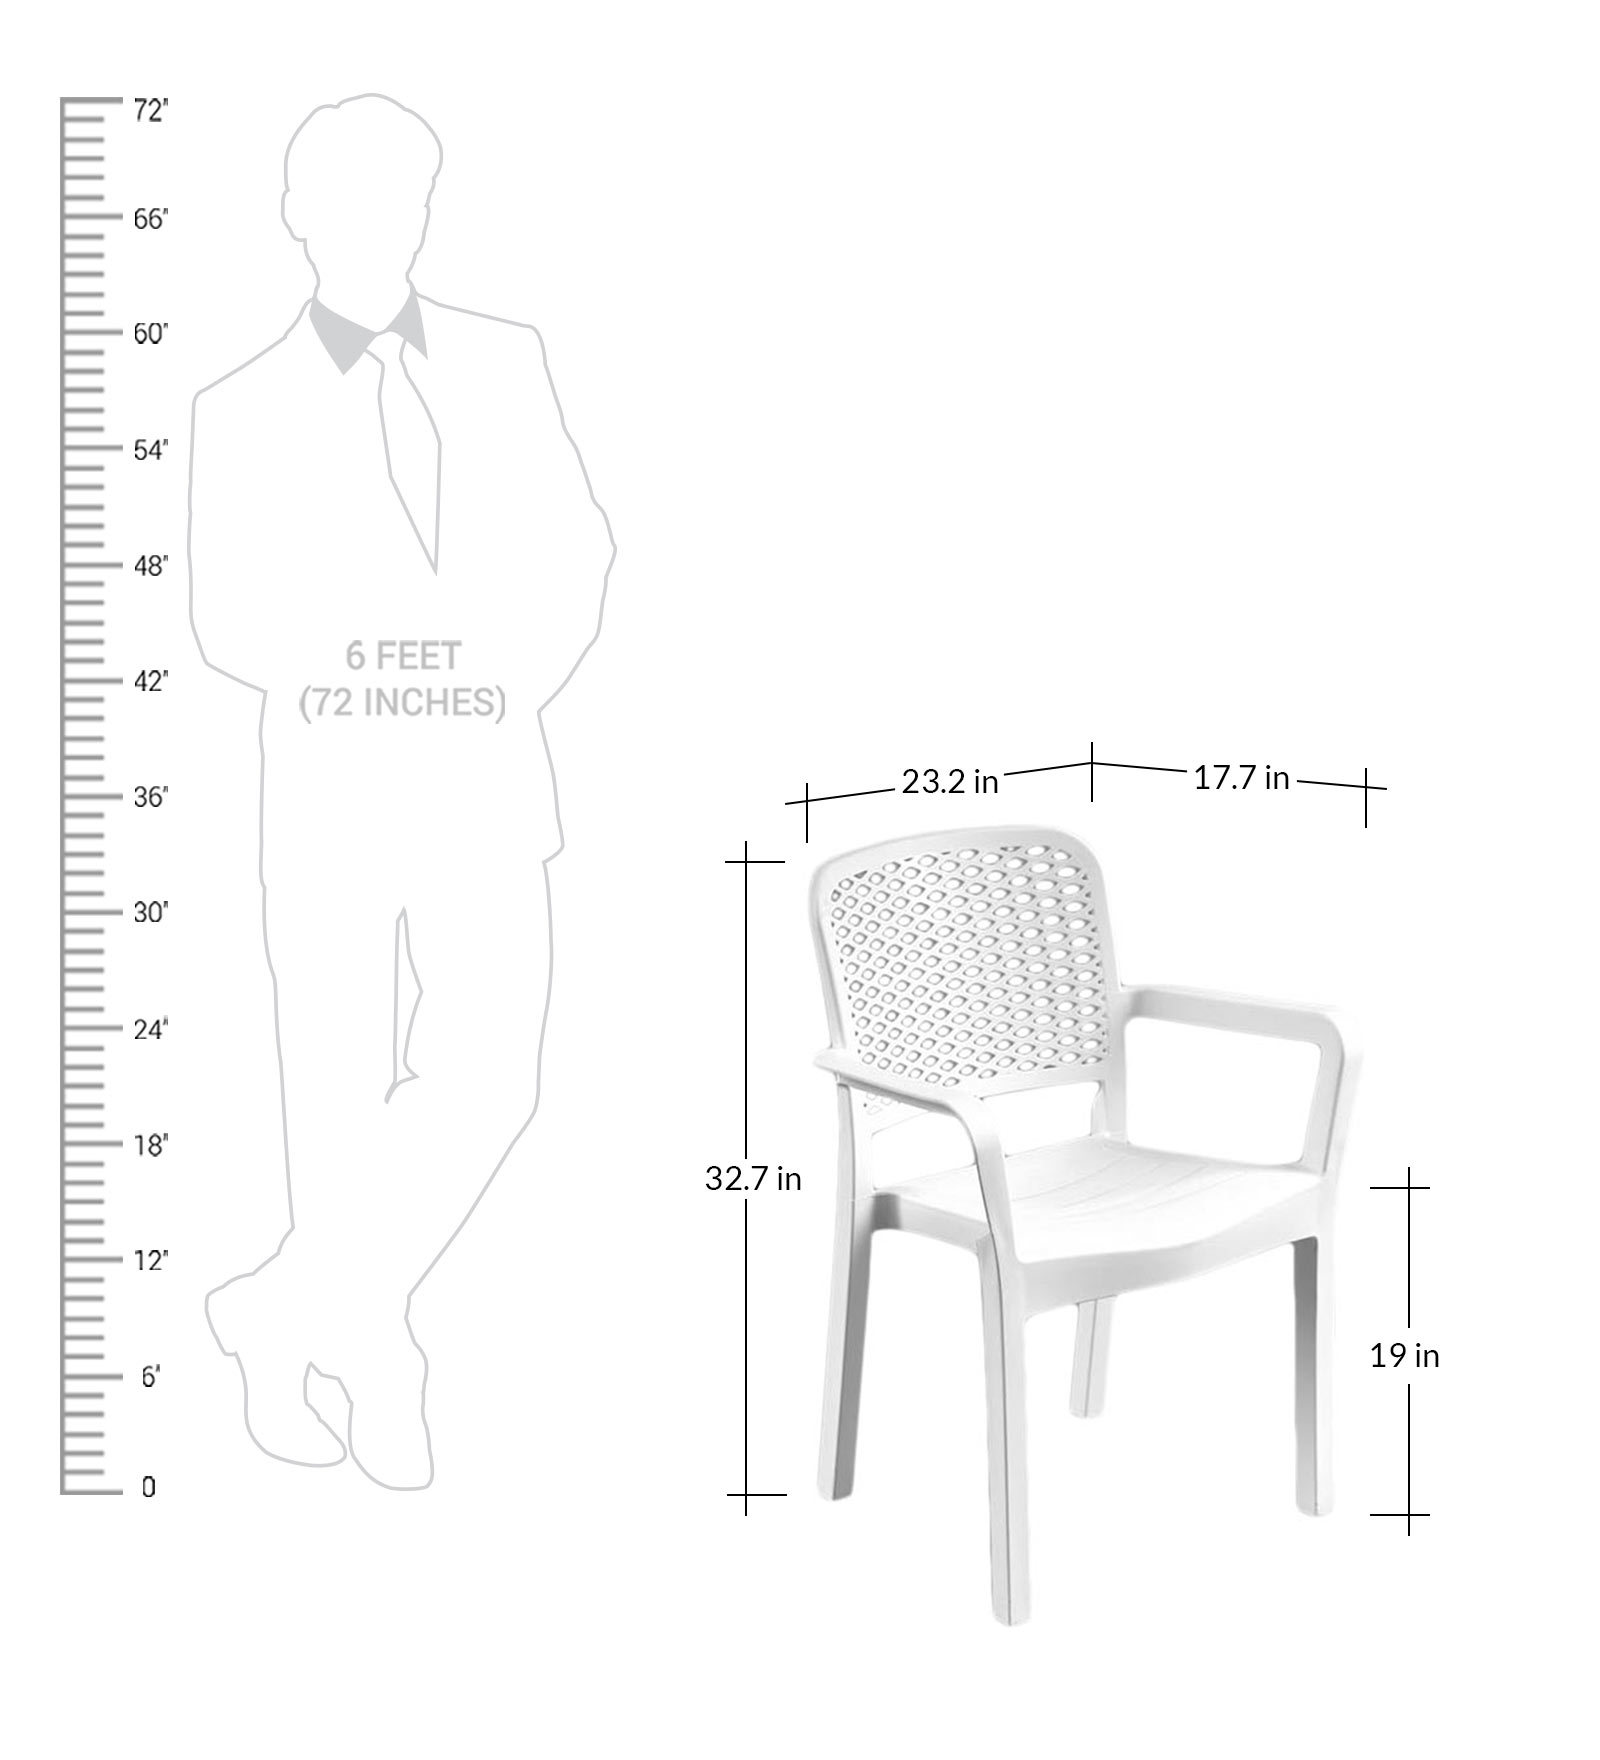Luxury Plastic Chair in White Colour by Italica Furniture: (808, 825, 1330, 1633)
